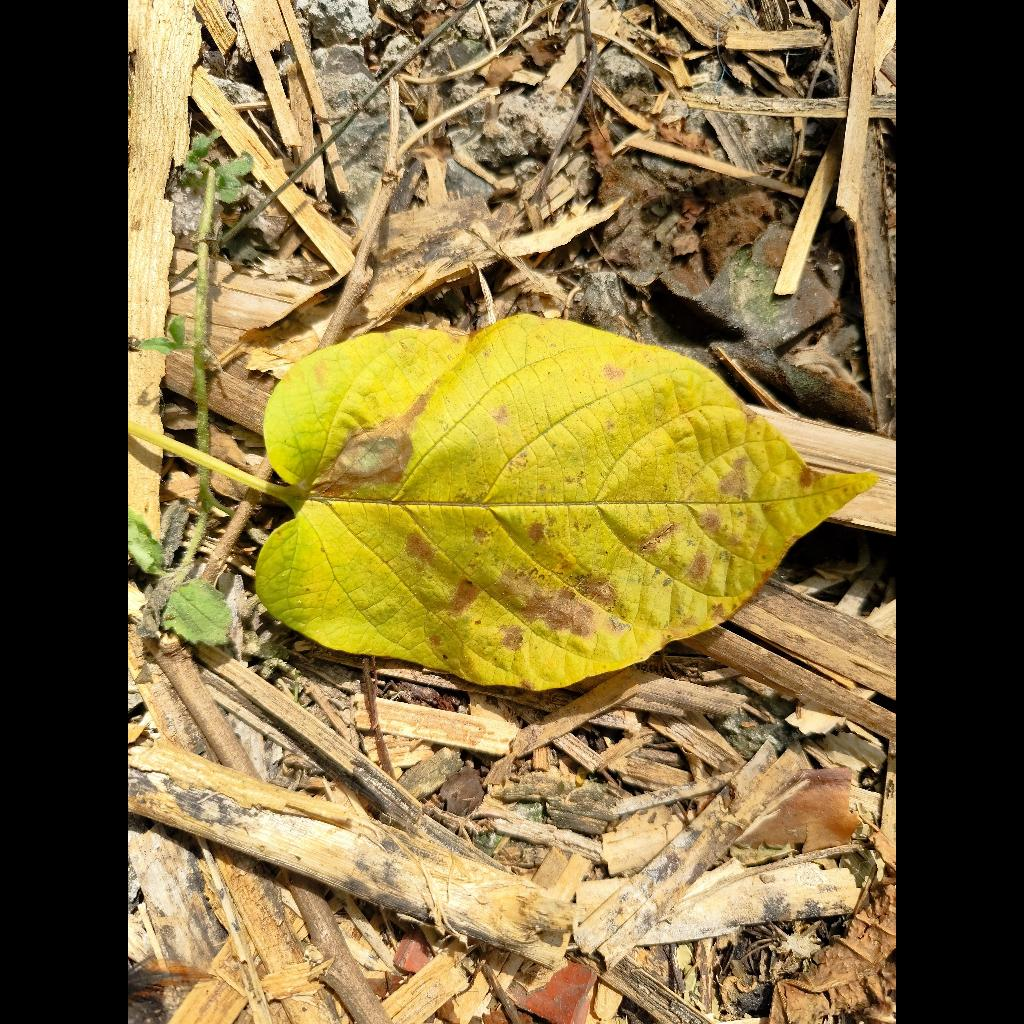nutrient_deficiency: (256, 316, 873, 690)
